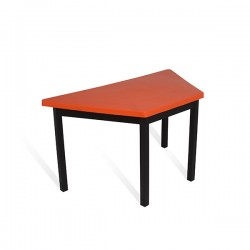m01: (41, 69, 205, 208)
